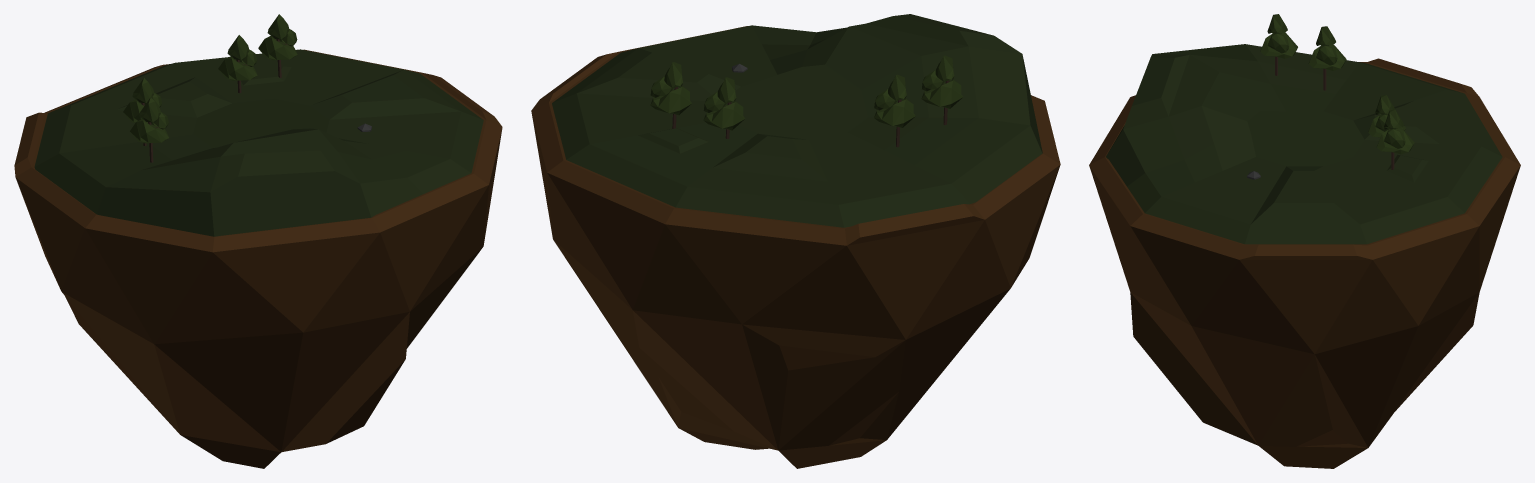
The model's file is plains.obj.
3 views of the same model, side by side, from view 1: azimuth 30°, elevation 25°; view 2: azimuth 150°, elevation 25°; view 3: azimuth 270°, elevation 25° (orthographic). The views are drawn at different scales.
Visible parts, largest first — view 1: planet, planet.001, Tree_Type4_01_Model, Tree_Type4_01_Model.002, Tree_Type4_01_Model.003, Tree_Type4_01_Model.001; view 2: planet, planet.001, Tree_Type4_01_Model, Tree_Type4_01_Model.002, Tree_Type4_01_Model.001, Tree_Type4_01_Model.003; view 3: planet, planet.001, Tree_Type4_01_Model.001, Tree_Type4_01_Model.003, Tree_Type4_01_Model.002, Tree_Type4_01_Model.
Part boxes in pixels (left/top/right/bottom): planet: left=14, top=49, right=502, bottom=468; planet.001: left=34, top=49, right=483, bottom=236; Tree_Type4_01_Model: left=218, top=35, right=257, bottom=80; Tree_Type4_01_Model.002: left=130, top=97, right=168, bottom=143; Tree_Type4_01_Model.003: left=258, top=14, right=297, bottom=60; Tree_Type4_01_Model.001: left=123, top=78, right=161, bottom=122; planet: left=531, top=26, right=1060, bottom=468; planet.001: left=552, top=14, right=1042, bottom=227; Tree_Type4_01_Model: left=703, top=77, right=745, bottom=130; Tree_Type4_01_Model.002: left=921, top=55, right=962, bottom=108; Tree_Type4_01_Model.001: left=874, top=74, right=915, bottom=127; Tree_Type4_01_Model.003: left=650, top=62, right=691, bottom=115; planet: left=1089, top=58, right=1520, bottom=468; planet.001: left=1106, top=44, right=1502, bottom=244; Tree_Type4_01_Model.001: left=1308, top=26, right=1346, bottom=70; Tree_Type4_01_Model.003: left=1377, top=109, right=1414, bottom=154; Tree_Type4_01_Model.002: left=1260, top=14, right=1297, bottom=58; Tree_Type4_01_Model: left=1368, top=95, right=1405, bottom=137.
Bounding box in the file's own units: 2.8 × 2.5 × 2.62.
